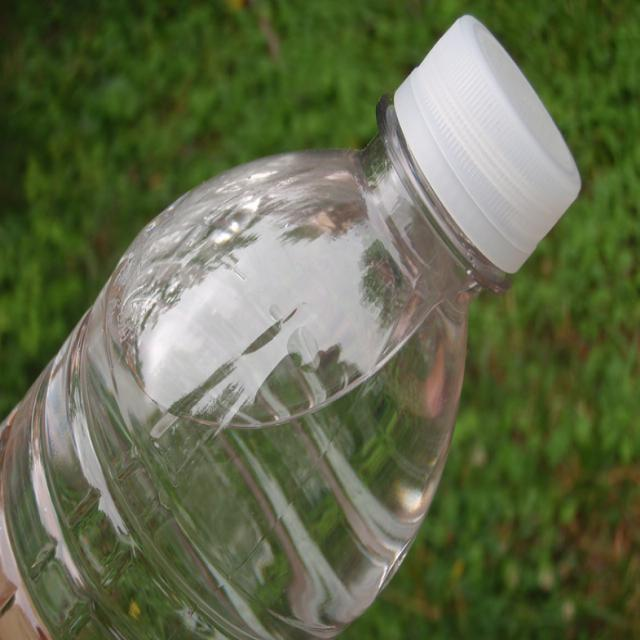plastic: (2, 18, 583, 640)
